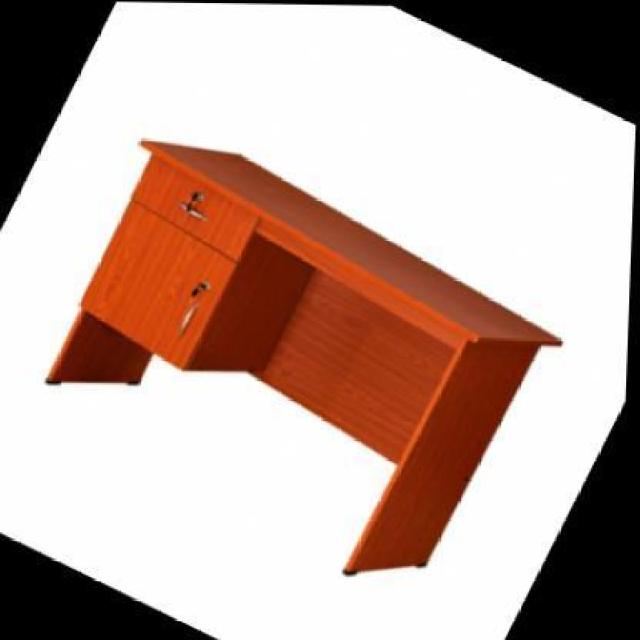tables: (43, 135, 563, 576)
